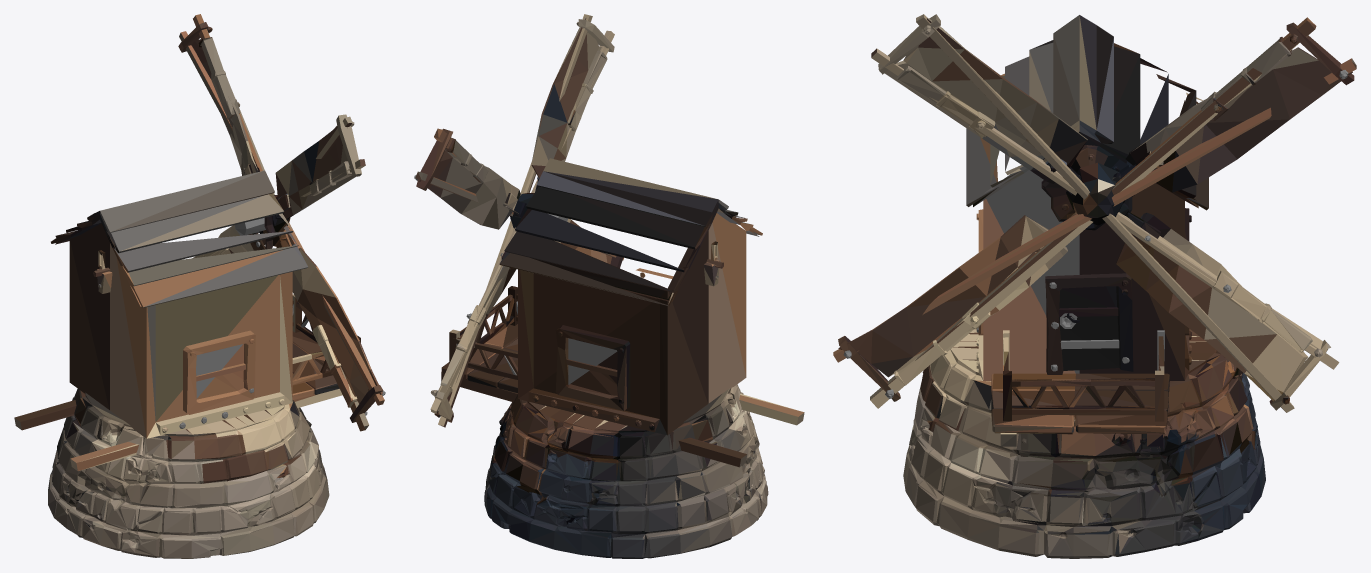
Rendered from Windmill.glb.
3 renders of one model, left to right at view 1: azimuth 30°, elevation 25°; view 2: azimuth 150°, elevation 25°; view 3: azimuth 270°, elevation 25°, orthographic. The views are drawn at different scales.
Visible parts, largest first — view 1: world; view 2: world; view 3: world.
Part boxes in pixels (x1,y1,x2,y2): world: [14, 14, 385, 558]; world: [414, 14, 804, 558]; world: [833, 14, 1356, 558].
Size of the model in its own units: 0.7559 by 0.998 by 0.8926.
